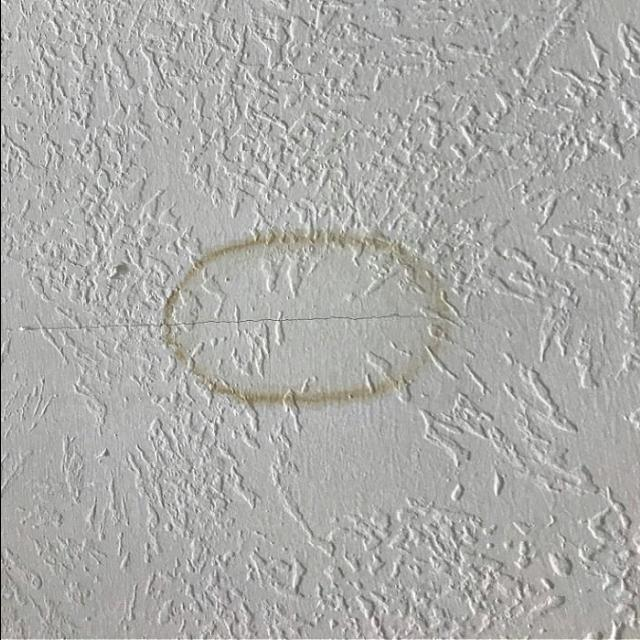Crack: (15, 314, 465, 331)
